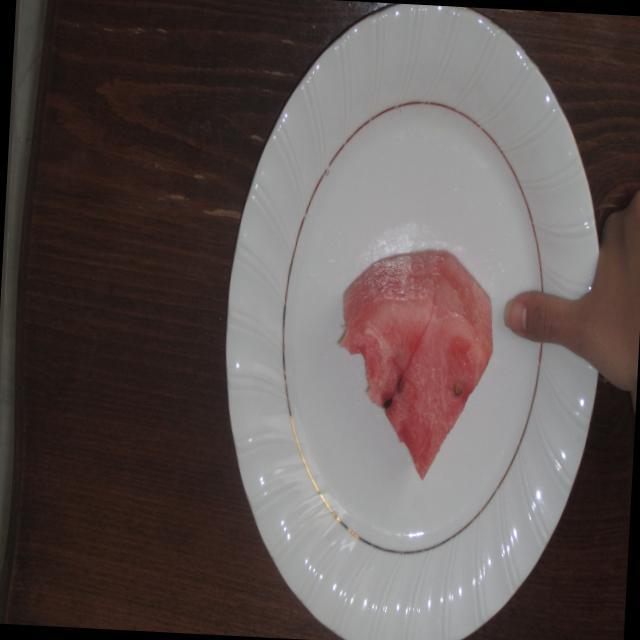Watermelon: (324, 235, 501, 494)
